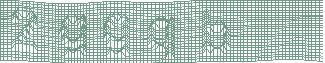2: (9, 5, 40, 54)
9: (100, 13, 132, 59)
b: (200, 7, 232, 58)
g: (58, 14, 89, 60)
q: (146, 15, 176, 61)
